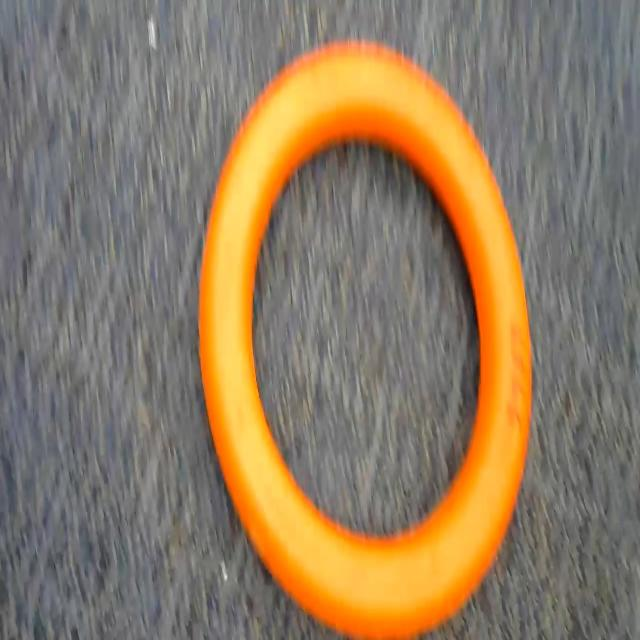note: (186, 34, 526, 640)
